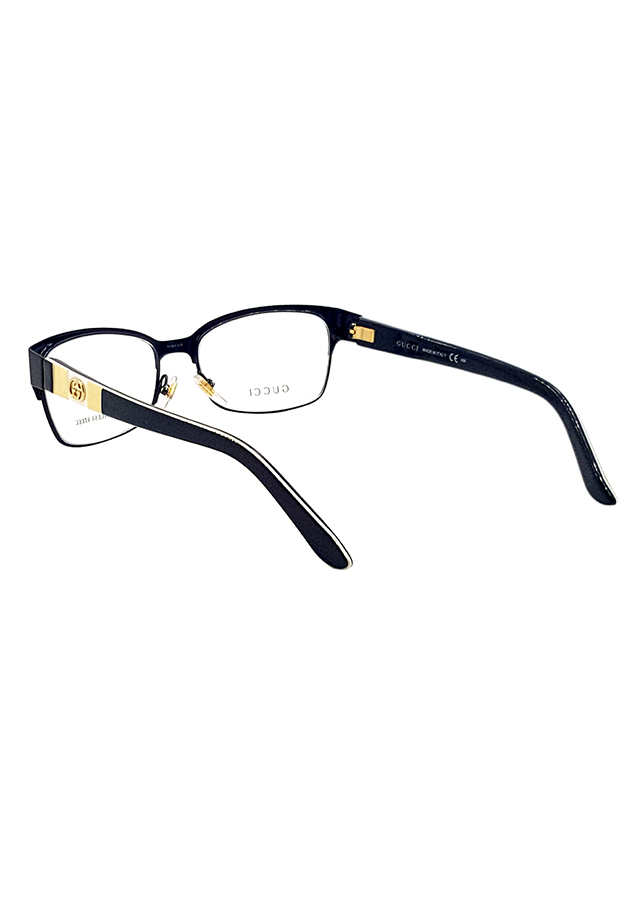Gucci: (63, 367, 94, 415), (241, 379, 303, 402), (389, 331, 423, 359)
